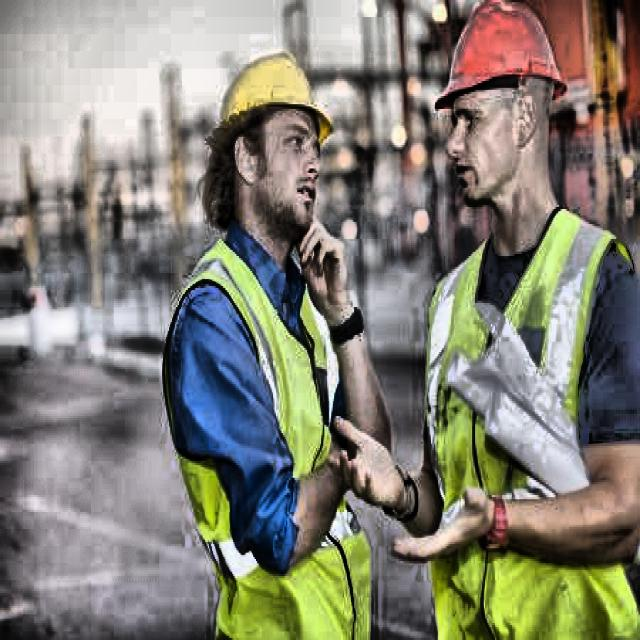helmet: (432, 2, 584, 228), (209, 45, 340, 243)
